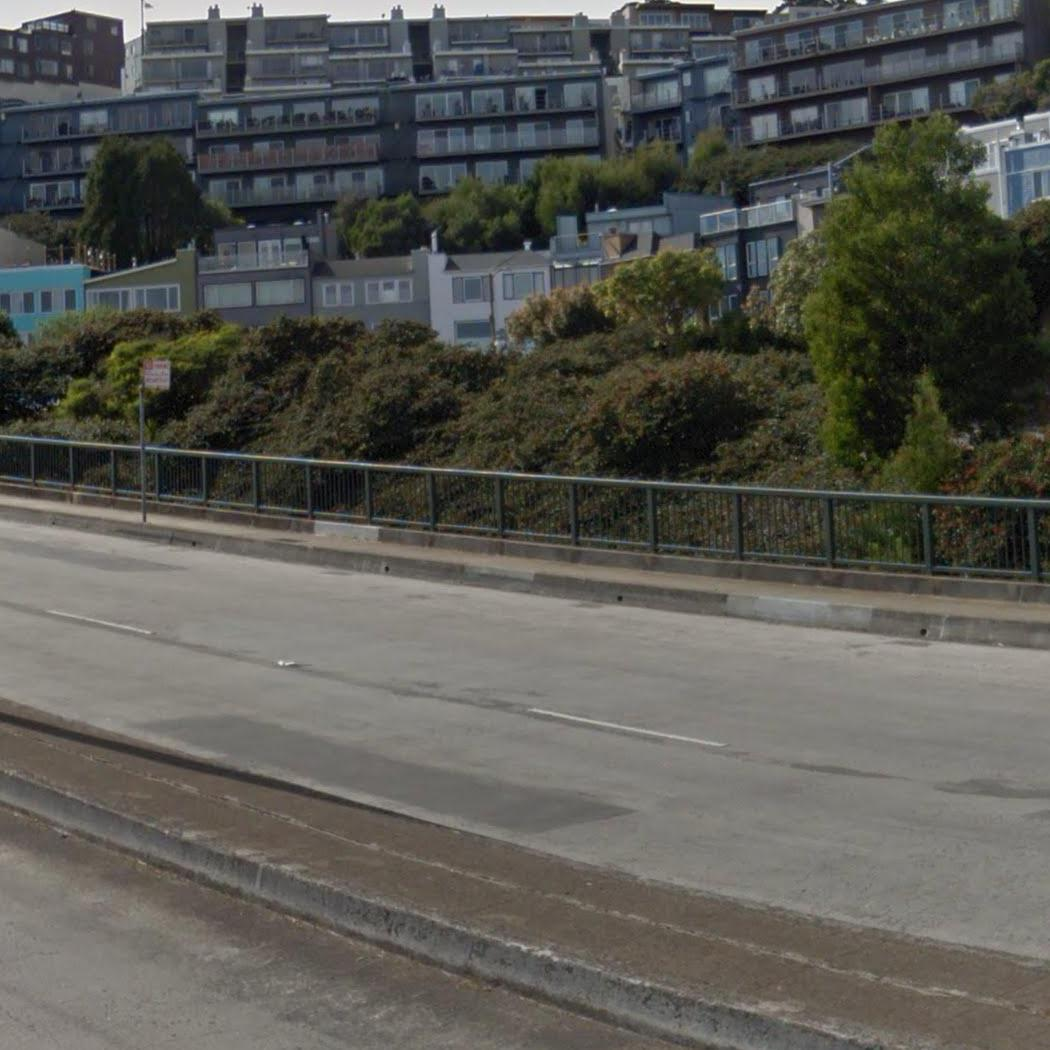No Parking: (139, 351, 174, 394)
